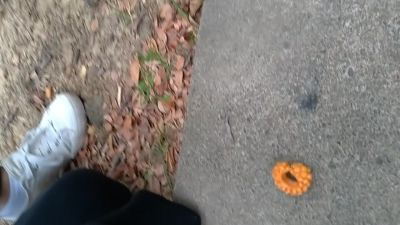eggs: (271, 162, 313, 196)
